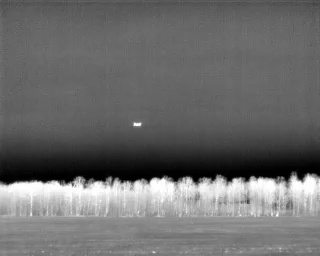DRONE: (128, 117, 146, 132)
